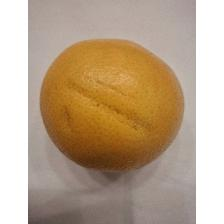Orange: (38, 36, 186, 174)
